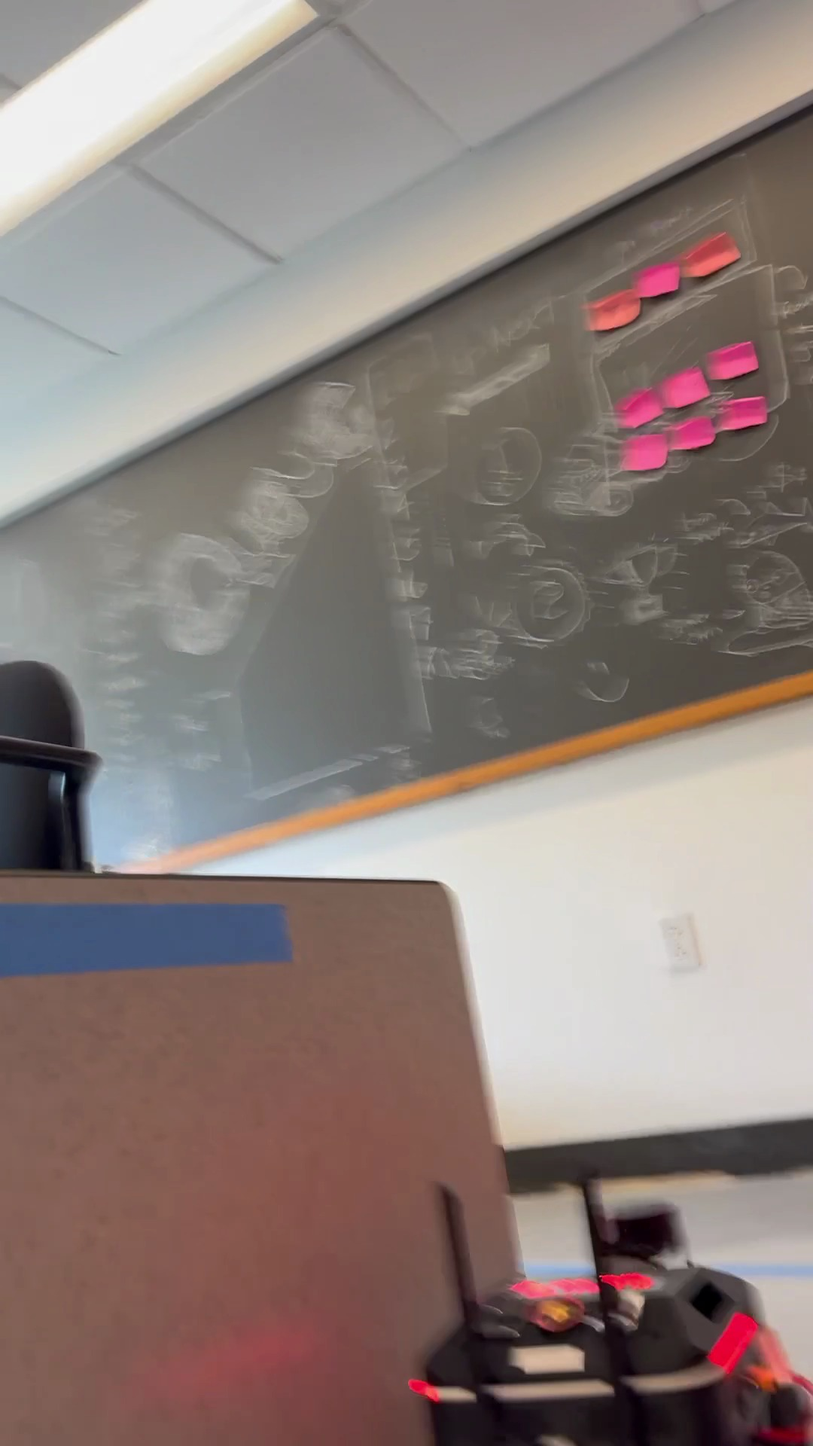racecar: (406, 1183, 807, 1445)
